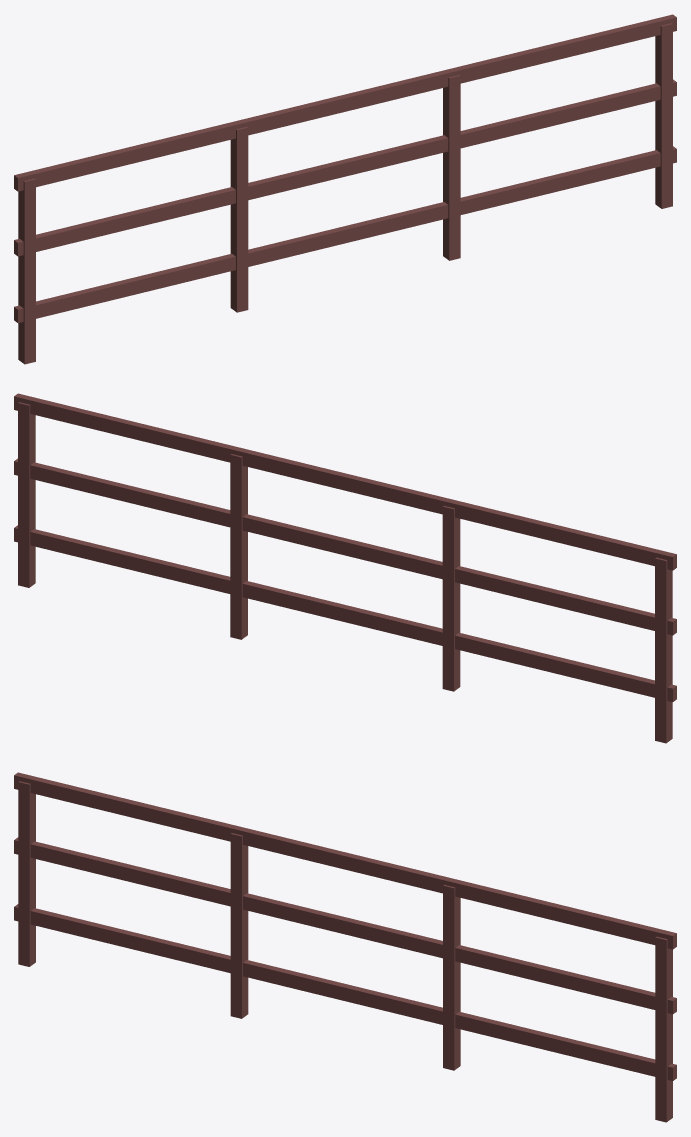
Rendered from fence_2.fbx.
3 renders of one model, top to bottom at view 1: azimuth 30°, elevation 25°; view 2: azimuth 150°, elevation 25°; view 3: azimuth 330°, elevation 25°, orthographic.
Visible parts, largest first — view 1: fence_2; view 2: fence_2; view 3: fence_2.
Boxes of the visible parts, box(x1,y1,x2,y2) form: fence_2: box(14, 14, 676, 364); fence_2: box(14, 393, 676, 743); fence_2: box(14, 772, 676, 1122).
Bounding box in the file's own units: 160 × 43.3 × 2.7.
